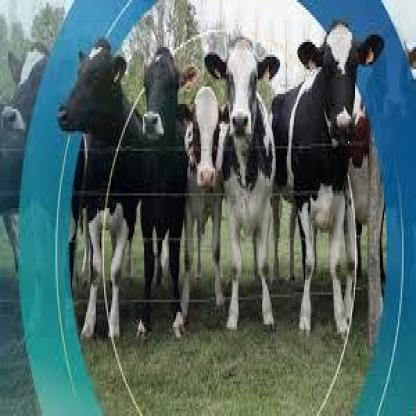cow: (275, 25, 384, 341), (59, 48, 142, 346), (203, 40, 282, 332), (134, 48, 202, 346), (174, 85, 232, 316)
